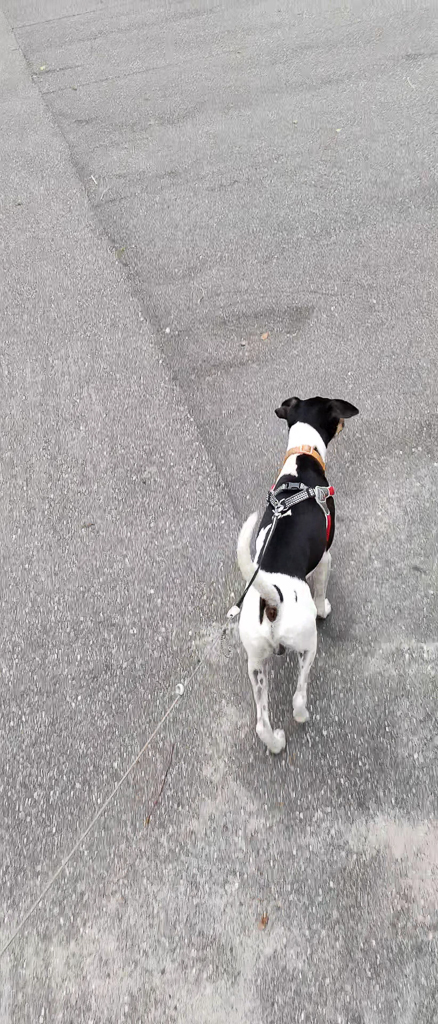Dog: (220, 390, 369, 757)
